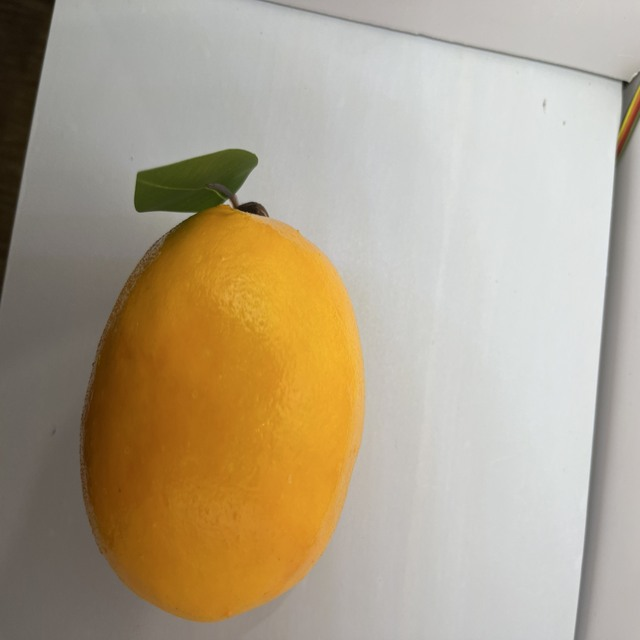Cam vang: (83, 167, 369, 625)
